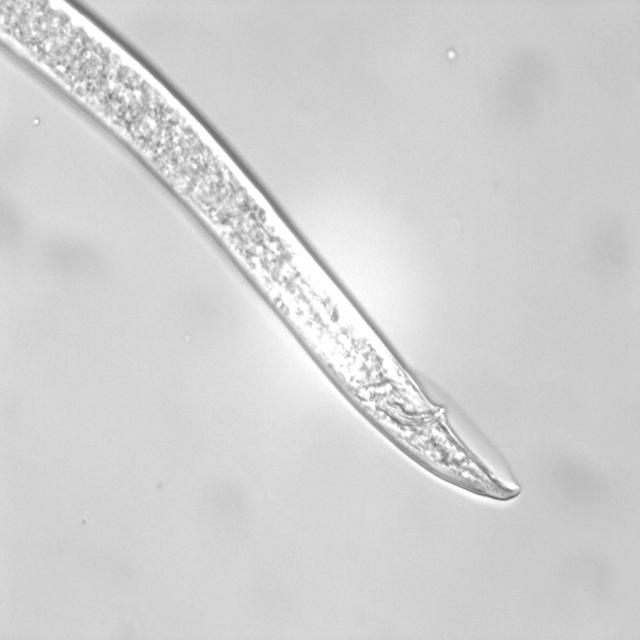Pratylenchus: (0, 0, 530, 512)
